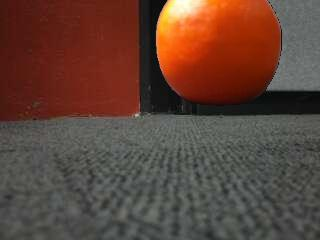Orange: (155, 0, 282, 107)
